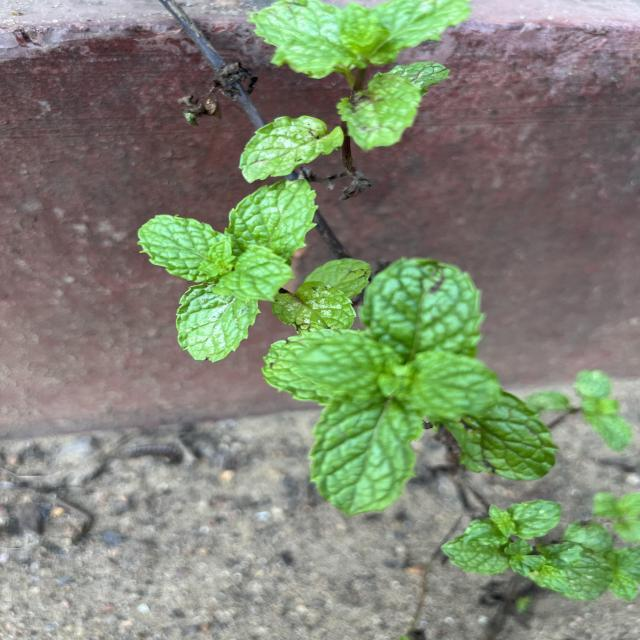Mentha spicata: (224, 178, 321, 262), (174, 285, 260, 363), (135, 213, 225, 283)
